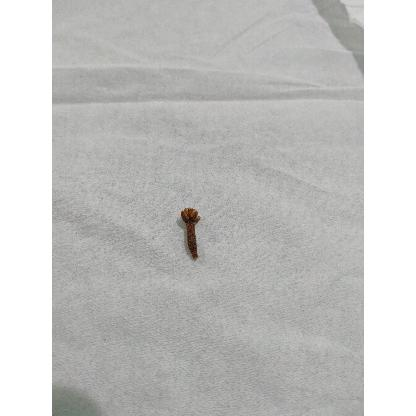sedang: (180, 208, 201, 261)
